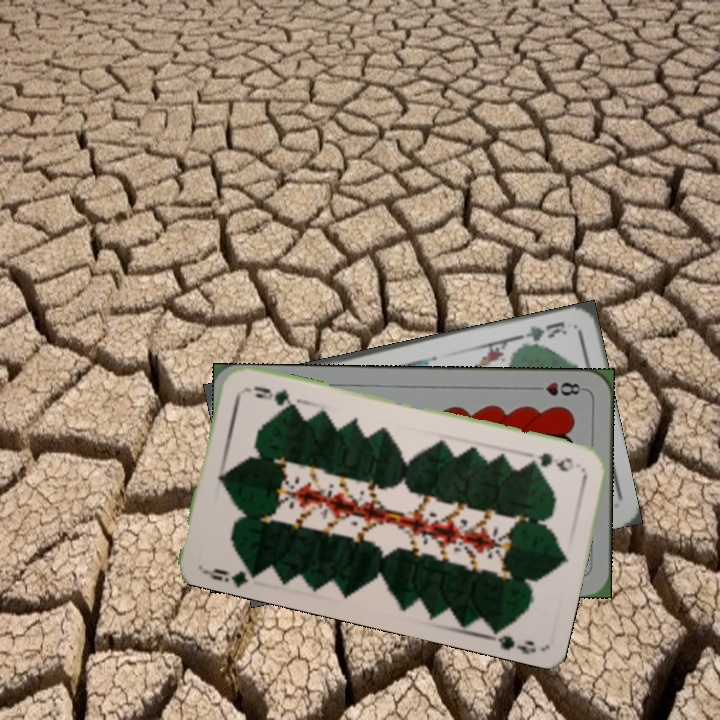G9: (199, 561, 261, 588), (534, 448, 577, 474)
GK: (515, 317, 569, 350)
H8: (528, 377, 587, 399)
